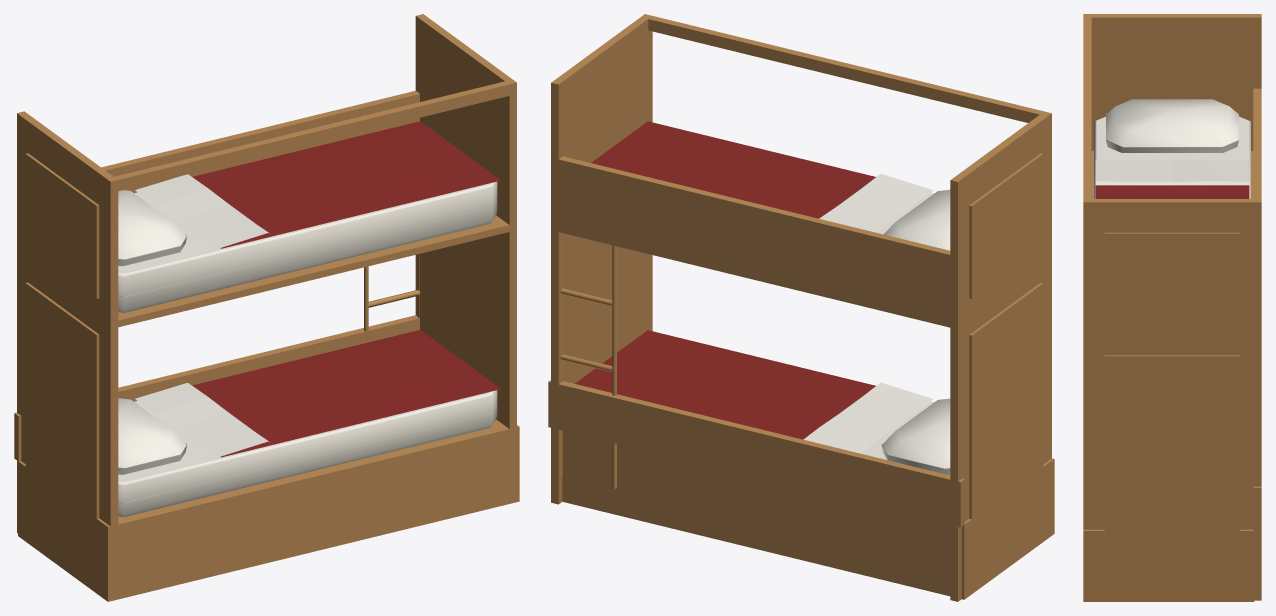
File: parametric-berth_double-2nd-pub.glb
3 renders of one model, left to right at view 1: azimuth 30°, elevation 25°; view 2: azimuth 150°, elevation 25°; view 3: azimuth 270°, elevation 25°, orthographic. The views are drawn at different scales.
Visible parts, largest first — view 1: parametric-berth_double-2nd-pub; view 2: parametric-berth_double-2nd-pub; view 3: parametric-berth_double-2nd-pub.
Part boxes in pixels (left/top/right/bottom): parametric-berth_double-2nd-pub: left=14, top=14, right=519, bottom=601; parametric-berth_double-2nd-pub: left=548, top=14, right=1054, bottom=601; parametric-berth_double-2nd-pub: left=1083, top=14, right=1261, bottom=601.
Bounding box in the file's own units: 1.9 × 1.85 × 0.75.
